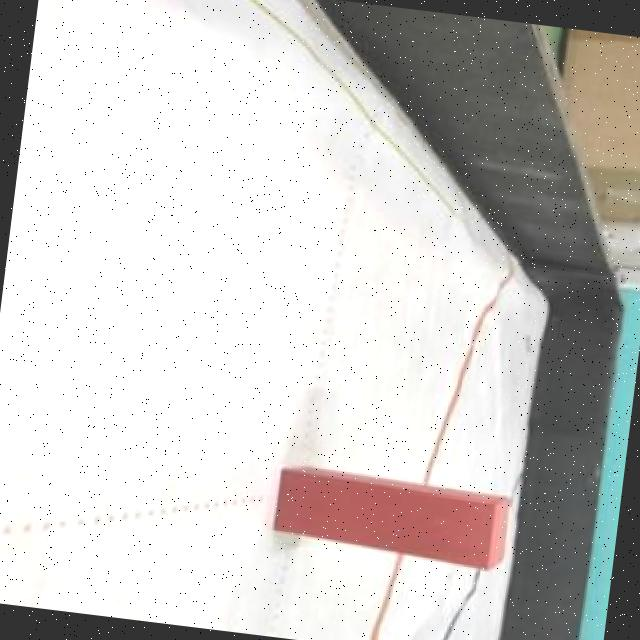redbox: (268, 464, 514, 570)
